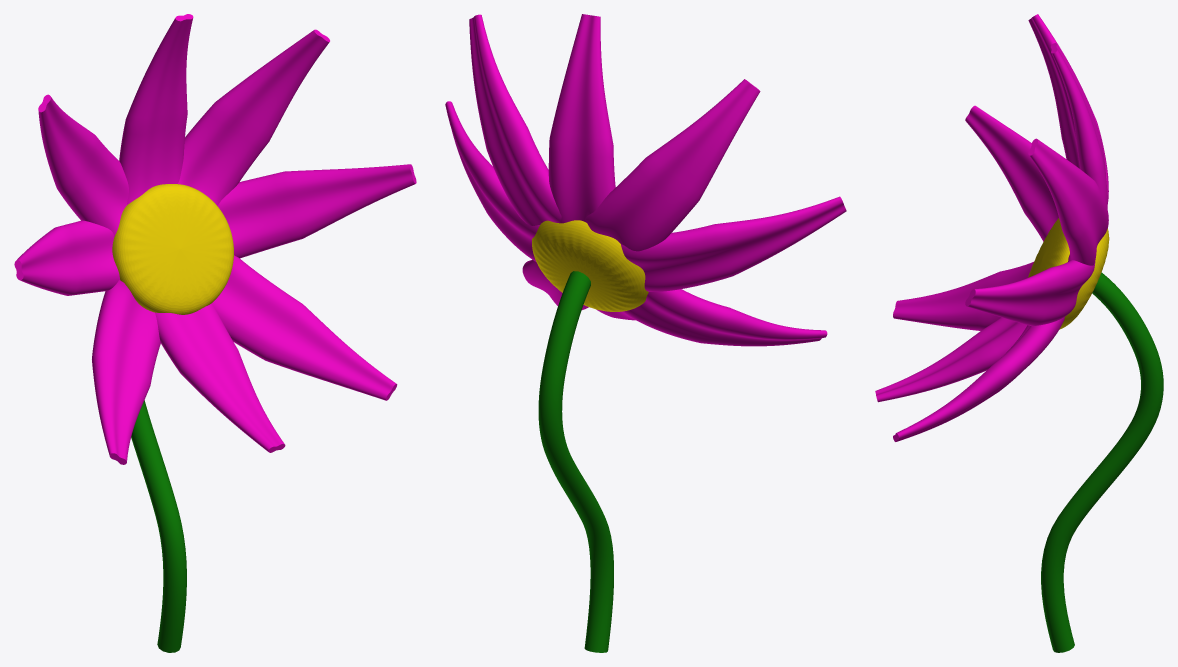
Rendered from fleurs.fbx.
3 renders of one model, left to right at view 1: azimuth 30°, elevation 25°; view 2: azimuth 150°, elevation 25°; view 3: azimuth 270°, elevation 25°, orthographic. The views are drawn at different scales.
Parts seen in each view (by area): view 1: BézierCurve; view 2: BézierCurve; view 3: BézierCurve.
Part boxes in pixels (x1,y1,x2,y2): BézierCurve: [14, 14, 416, 652]; BézierCurve: [445, 14, 846, 652]; BézierCurve: [875, 14, 1163, 652].
Size of the model in its own units: 195 by 295 by 127.
